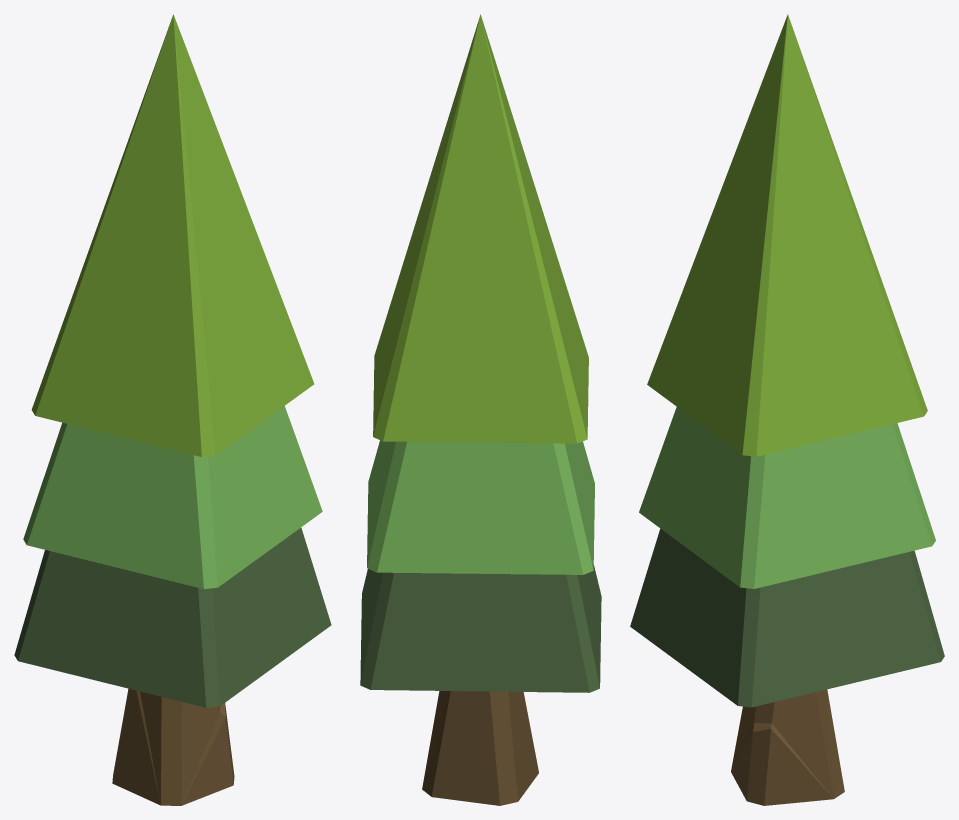
File: model_polytope_tree04.fbx
3 views of the same model, side by side, from view 1: azimuth 30°, elevation 25°; view 2: azimuth 150°, elevation 25°; view 3: azimuth 270°, elevation 25° (orthographic).
Visible parts, largest first — view 1: model_polytope_tree04; view 2: model_polytope_tree04; view 3: model_polytope_tree04.
Boxes of the visible parts, left/top/right/bottom form: model_polytope_tree04: left=14, top=14, right=331, bottom=805; model_polytope_tree04: left=360, top=14, right=601, bottom=805; model_polytope_tree04: left=630, top=14, right=944, bottom=805.
Size of the model in its own units: 149 by 397 by 148.
